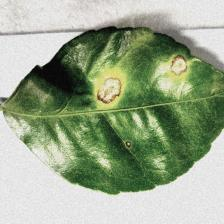canker: (89, 58, 128, 110)
